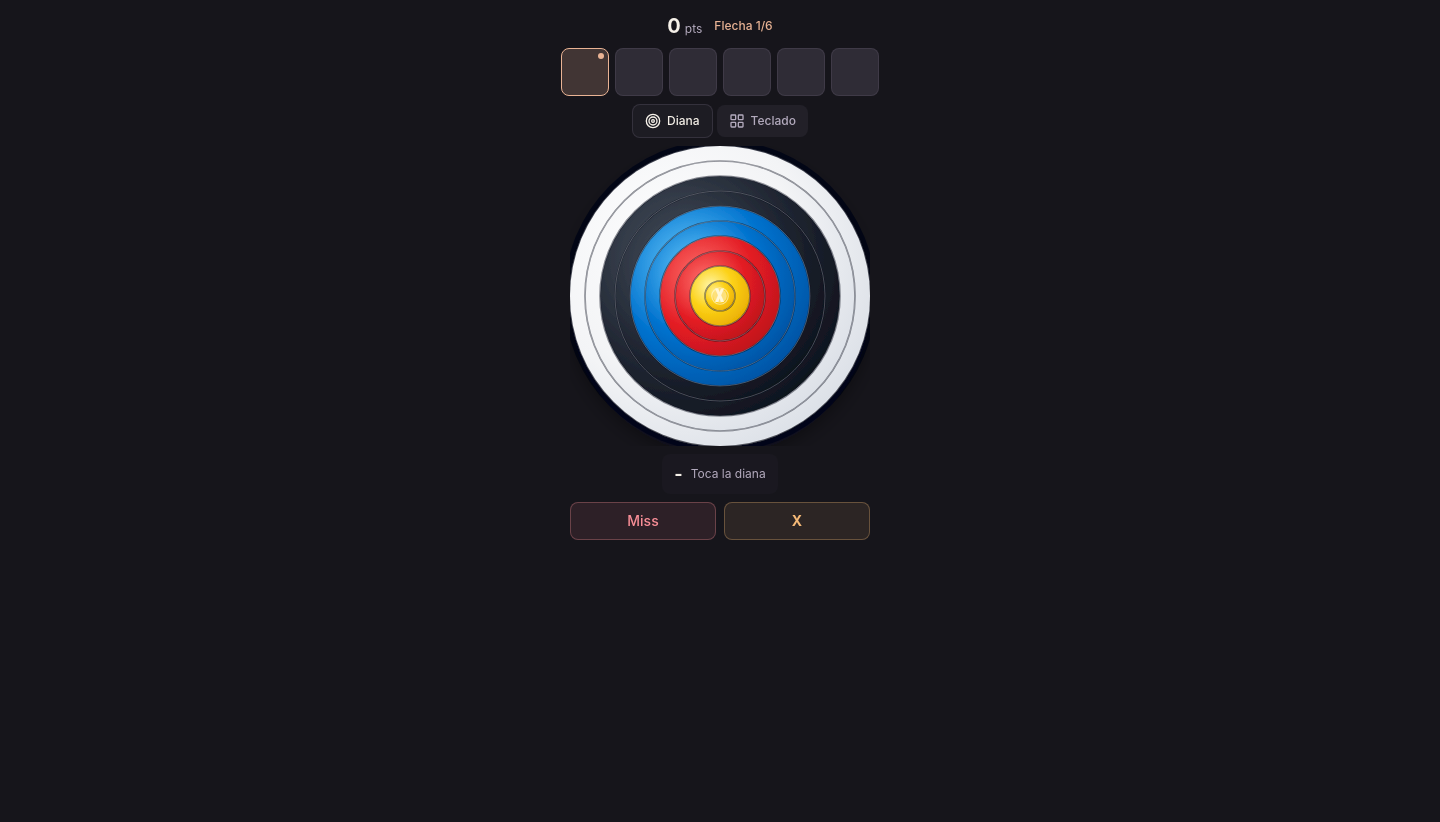
Test case: EndInput › score flow from TargetFace › maps SVG hits to the expected ring scores
This screenshot has width=1440, height=822.
Press the mouse on the picture named "diana de tiro con arco": (720, 296) [570, 146, 870, 446]
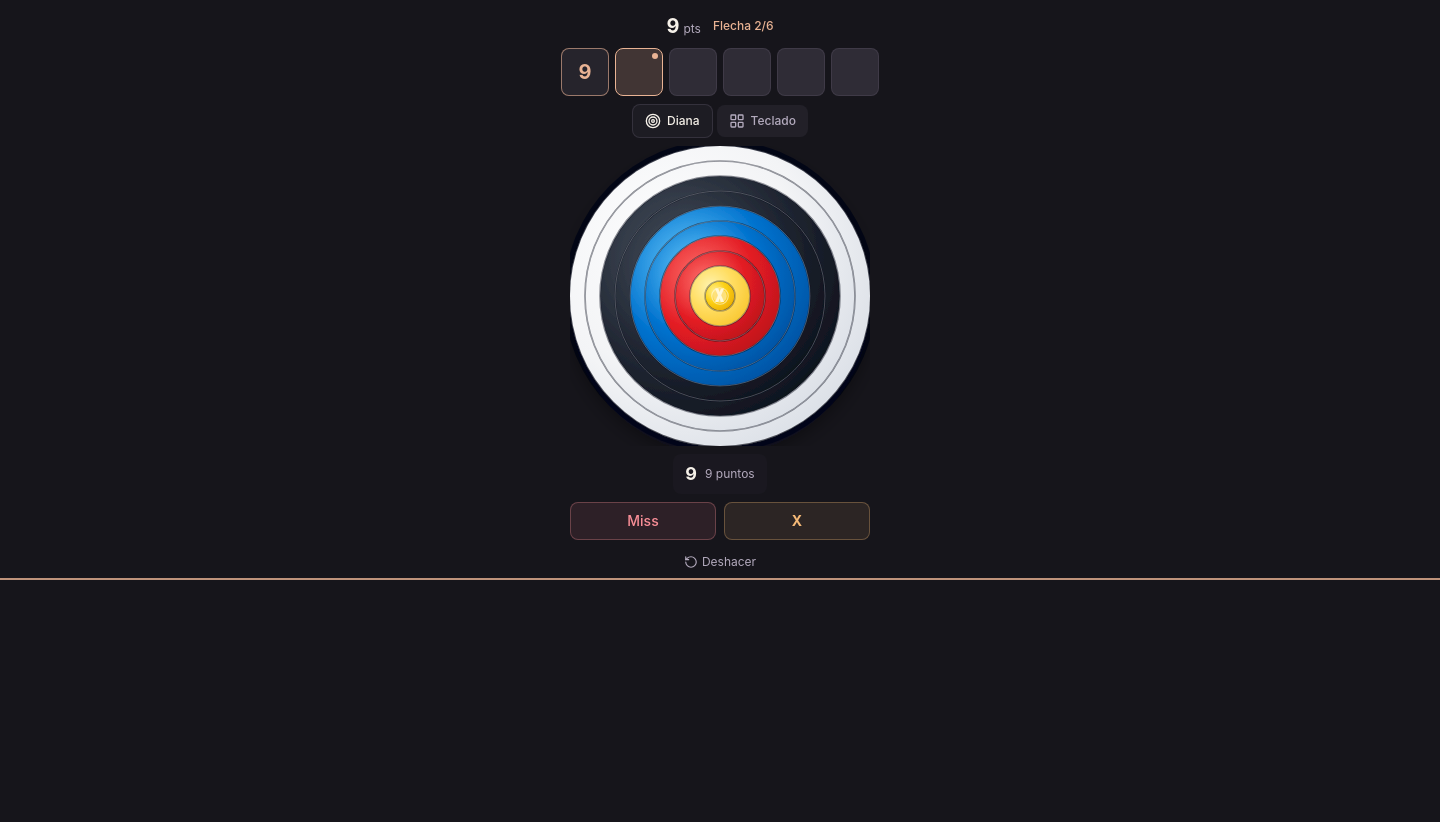
Press the mouse on the picture named "diana de tiro con arco": (720, 296) [570, 146, 870, 446]
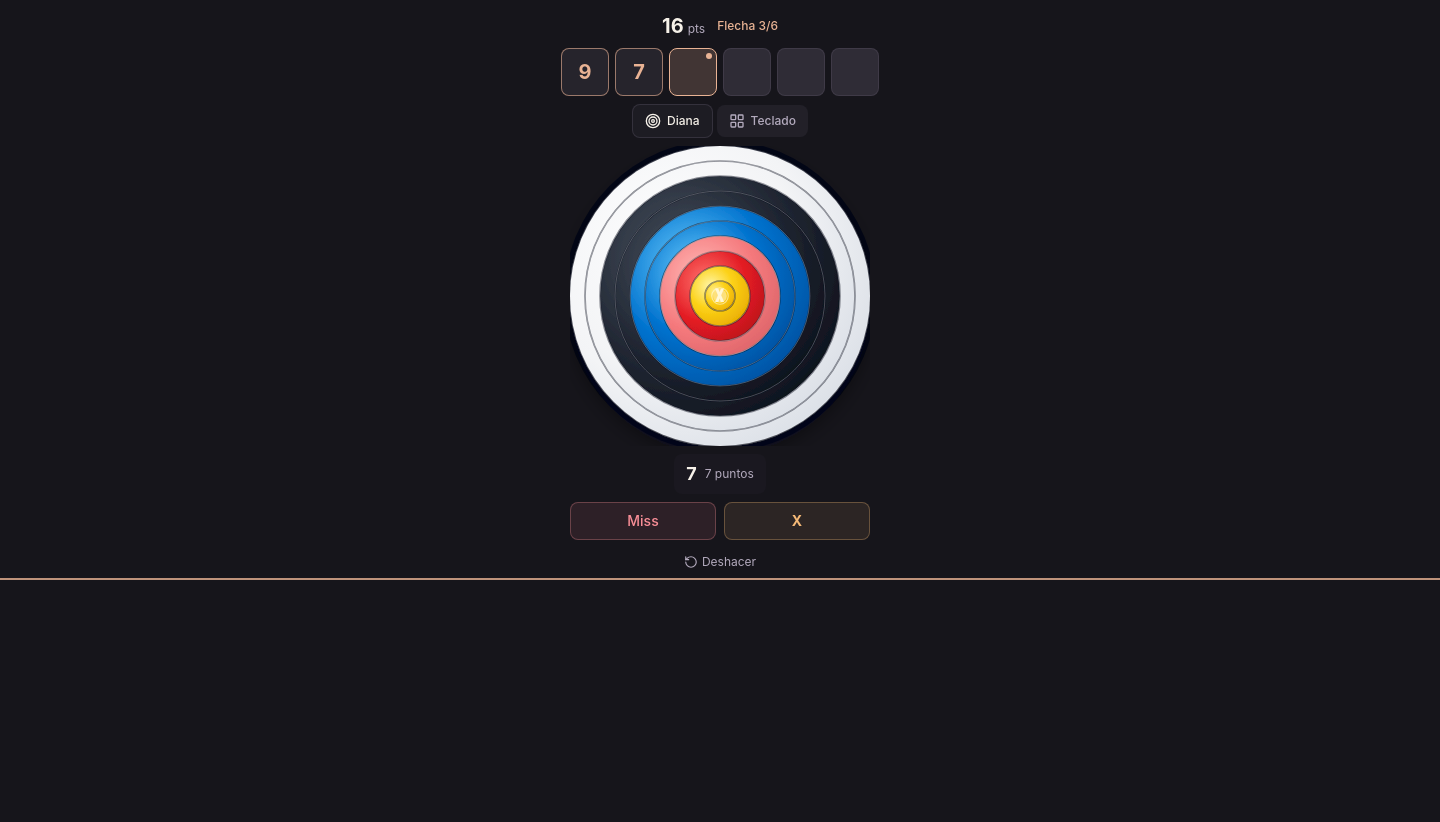
Now the button named "flecha" reads "9", box [561, 48, 609, 96]
Now the button named "flecha" reads "7", box [615, 48, 663, 96]
